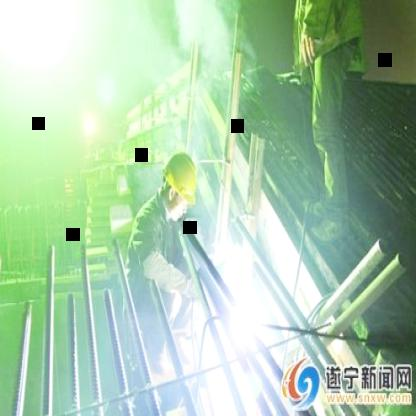helmet: (160, 140, 204, 216)
